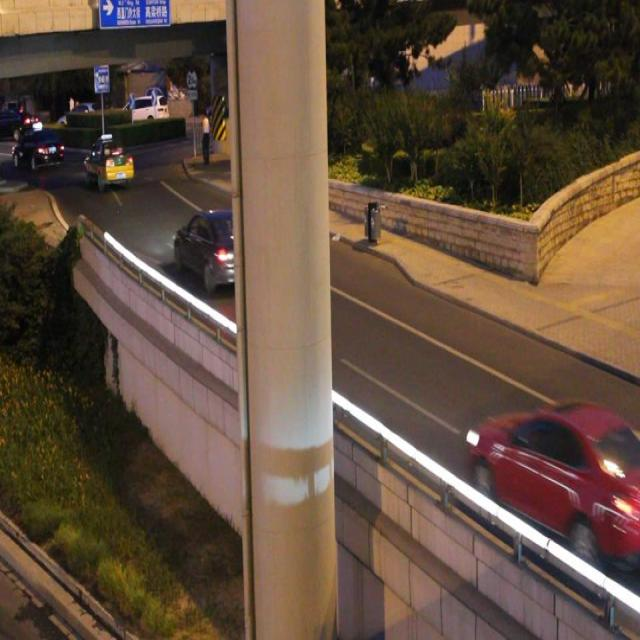car: (473, 401, 640, 560), (175, 210, 250, 288), (85, 143, 133, 185)
